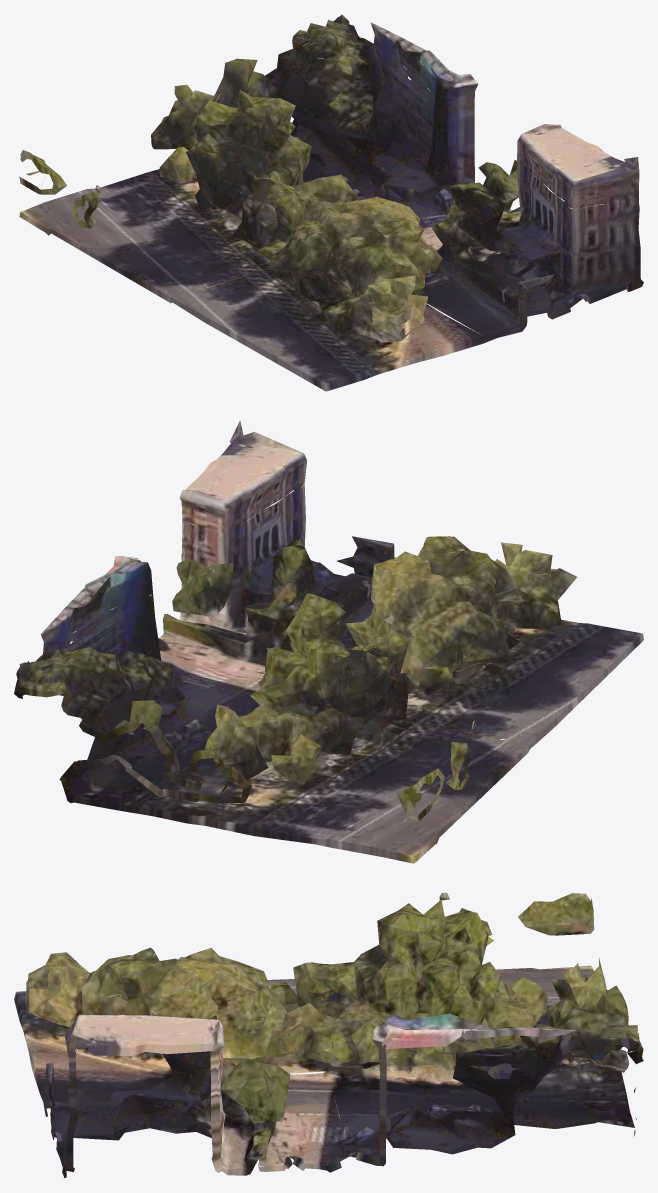
The picture shows the model from 3 angles, top to bottom: view 1: azimuth 30°, elevation 25°; view 2: azimuth 150°, elevation 25°; view 3: azimuth 270°, elevation 25°; orthographic projection. The views are drawn at different scales.
Parts seen in each view (by area): view 1: Mesh_0; view 2: Mesh_0; view 3: Mesh_0.
Boxes of the visible parts, x1=… form: Mesh_0: x1=19, y1=14, x2=643, y2=391; Mesh_0: x1=14, y1=420, x2=643, y2=863; Mesh_0: x1=14, y1=892, x2=643, y2=1177.
Bounding box in the file's own units: 68.09 × 23.43 × 82.71.
1 material, 1 textured.
